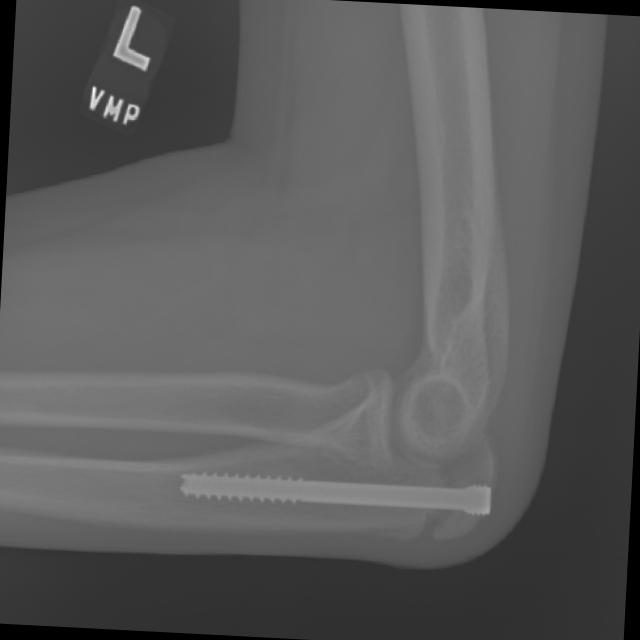elbow positive: (398, 507, 464, 560)
